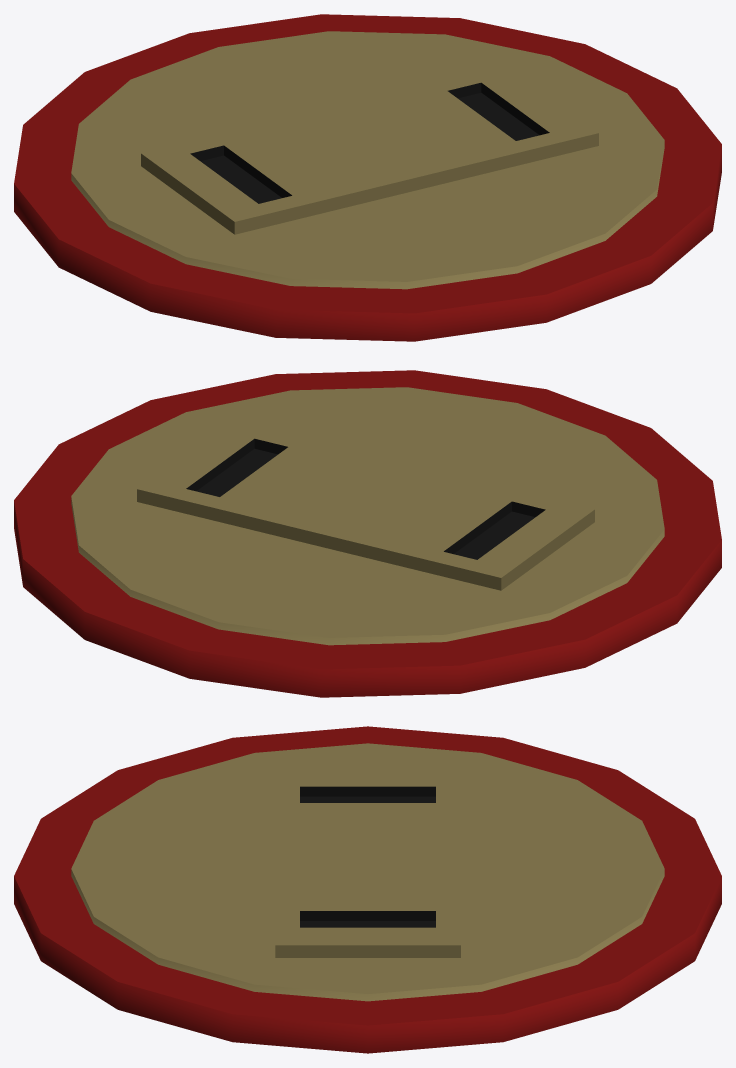
Rendered from Mesh_Socket2.FBX.
The picture shows the model from 3 angles, top to bottom: view 1: azimuth 30°, elevation 25°; view 2: azimuth 150°, elevation 25°; view 3: azimuth 270°, elevation 25°; orthographic projection.
Parts seen in each view (by area): view 1: Mesh_Socket2; view 2: Mesh_Socket2; view 3: Mesh_Socket2.
Boxes of the visible parts, bbox=[...] form: Mesh_Socket2: bbox=[14, 14, 721, 341]; Mesh_Socket2: bbox=[14, 370, 721, 697]; Mesh_Socket2: bbox=[14, 726, 721, 1053].
Size of what is drawn, in the model's own units: 251 by 251 by 18.71.
